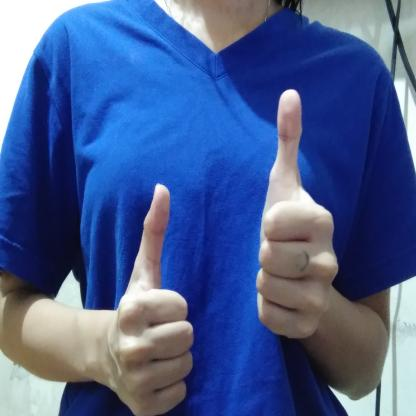which: (110, 85, 339, 416)
